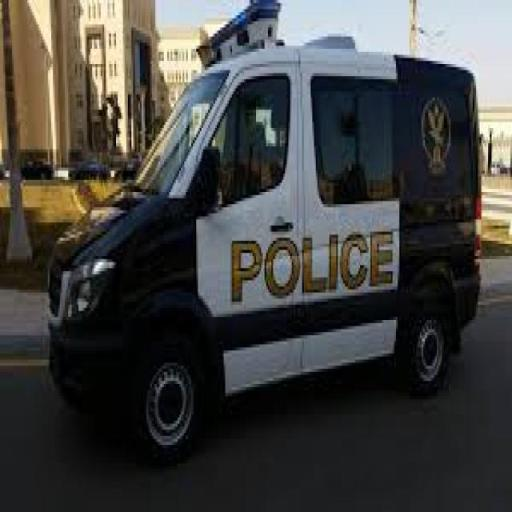Ambulance: (47, 10, 483, 465)
